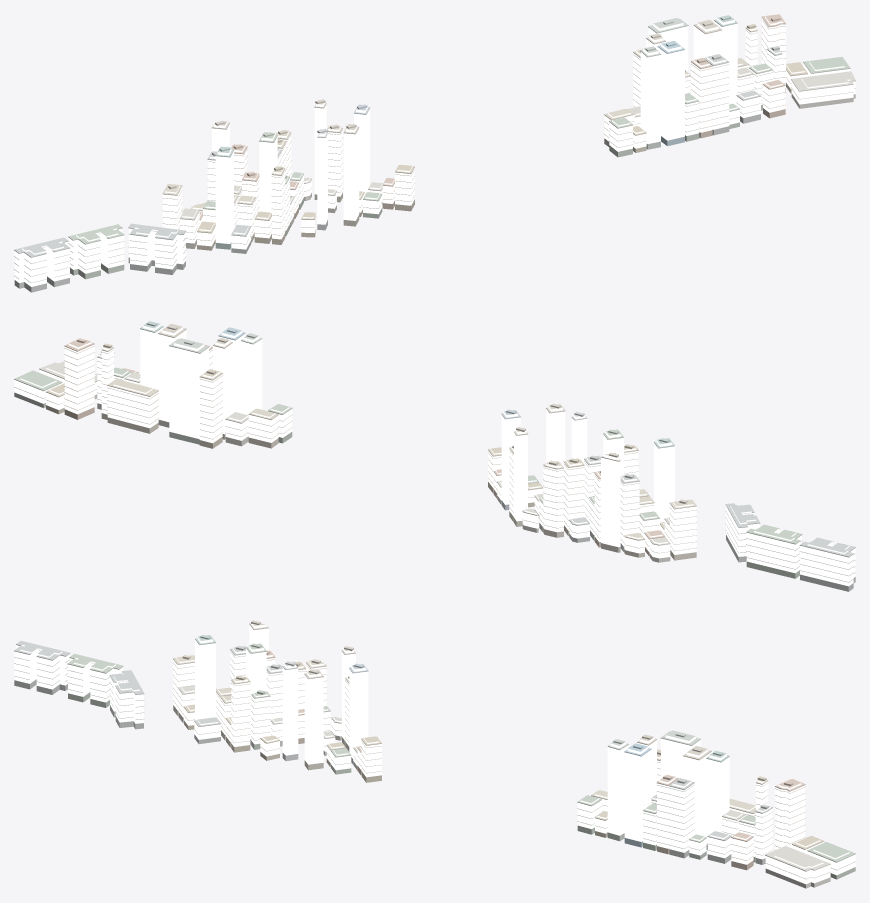
Rendered from buildings--7_4-fine.glb.
The picture shows the model from 3 angles, top to bottom: view 1: azimuth 30°, elevation 25°; view 2: azimuth 150°, elevation 25°; view 3: azimuth 330°, elevation 25°; orthographic projection.
Parts seen in each view (by area): view 1: block_-7_4_residential, block_-7_4_office, block_-7_4_roof, block_-7_4_darkglass, block_-7_4_concrete; view 2: block_-7_4_residential, block_-7_4_office, block_-7_4_roof, block_-7_4_darkglass, block_-7_4_concrete; view 3: block_-7_4_residential, block_-7_4_office, block_-7_4_roof, block_-7_4_darkglass, block_-7_4_concrete.
Boxes of the visible parts, box(x1,y1,x2,y2) form: block_-7_4_residential: box(14, 16, 855, 286); block_-7_4_office: box(212, 18, 737, 243); block_-7_4_roof: box(14, 14, 855, 282); block_-7_4_darkglass: box(14, 83, 855, 292); block_-7_4_concrete: box(14, 17, 855, 282); block_-7_4_residential: box(14, 342, 855, 586); block_-7_4_office: box(140, 324, 674, 547); block_-7_4_roof: box(14, 321, 855, 585); block_-7_4_darkglass: box(14, 392, 855, 591); block_-7_4_concrete: box(14, 343, 855, 582); block_-7_4_residential: box(14, 645, 855, 884); block_-7_4_office: box(195, 623, 729, 844); block_-7_4_roof: box(14, 620, 855, 878); block_-7_4_darkglass: box(14, 679, 855, 888); block_-7_4_concrete: box(14, 644, 855, 879).
Bounding box in the file's own units: 546 × 60.45 × 53.38.
